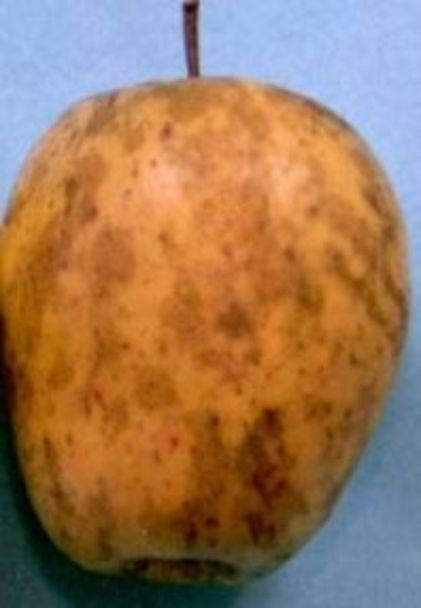BLOTCH: (4, 58, 408, 592)
